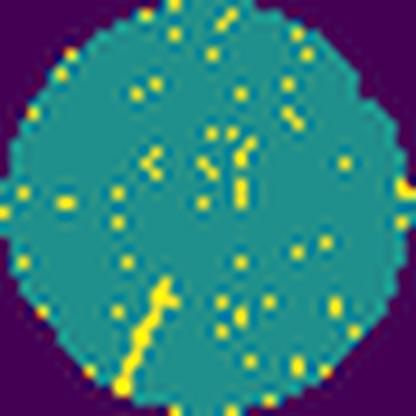Scratch: (112, 273, 185, 396)
